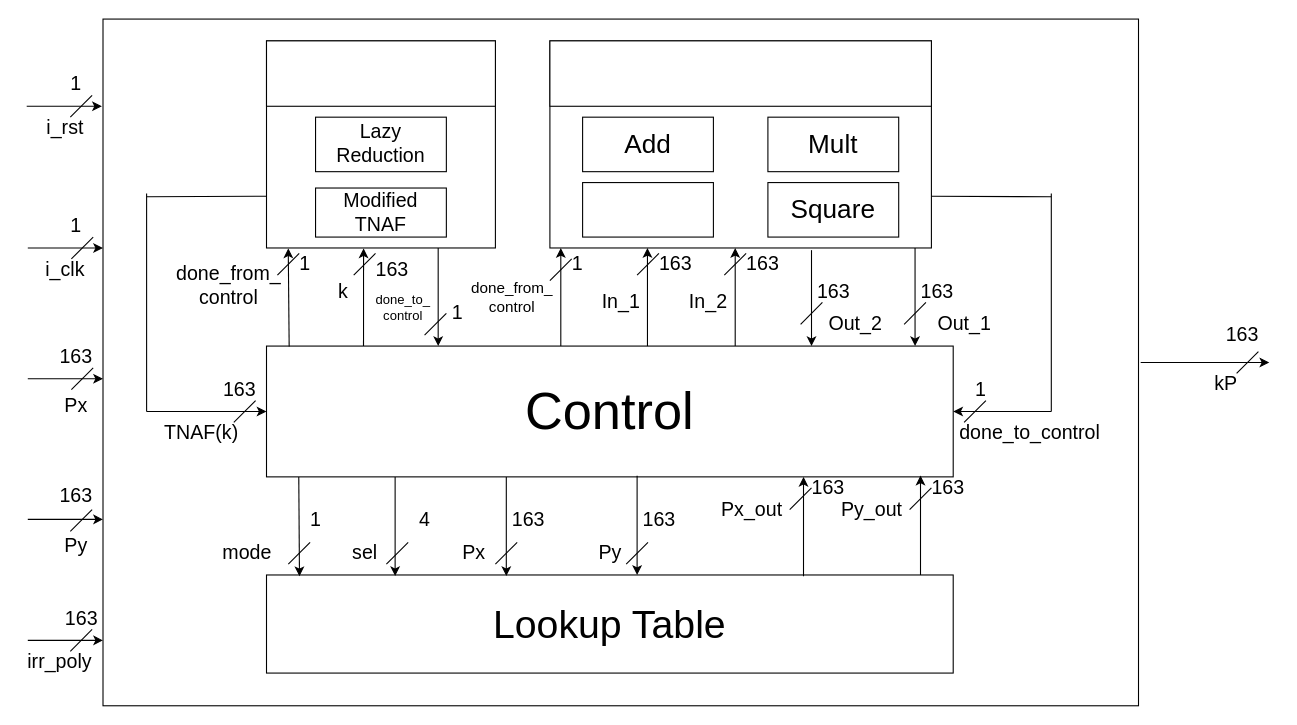
The diagram is 1297 pixels wide and 725 high, and some of its shapes have lost their labels. Here are the shapes that lost their labels. From the top down, the centre of each, then its label:
At (x=380, y=73): "converter".
At (x=740, y=73): "Arithmetic".
At (x=647, y=209): "Div".
